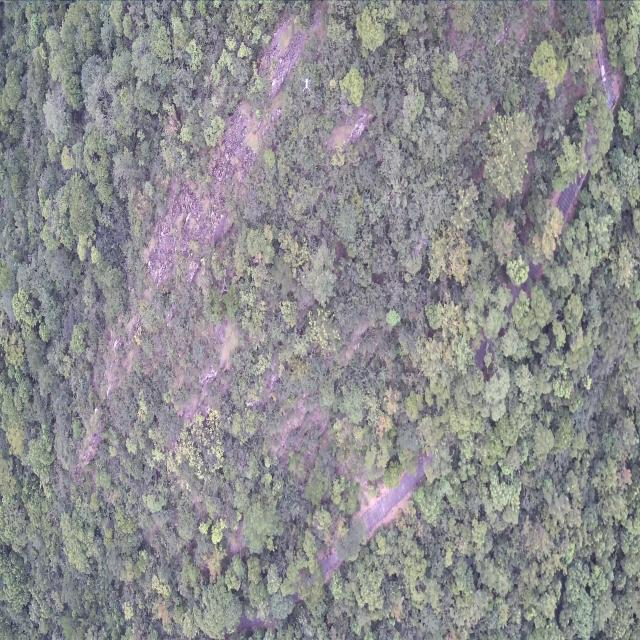UAV: (302, 78, 310, 91)
